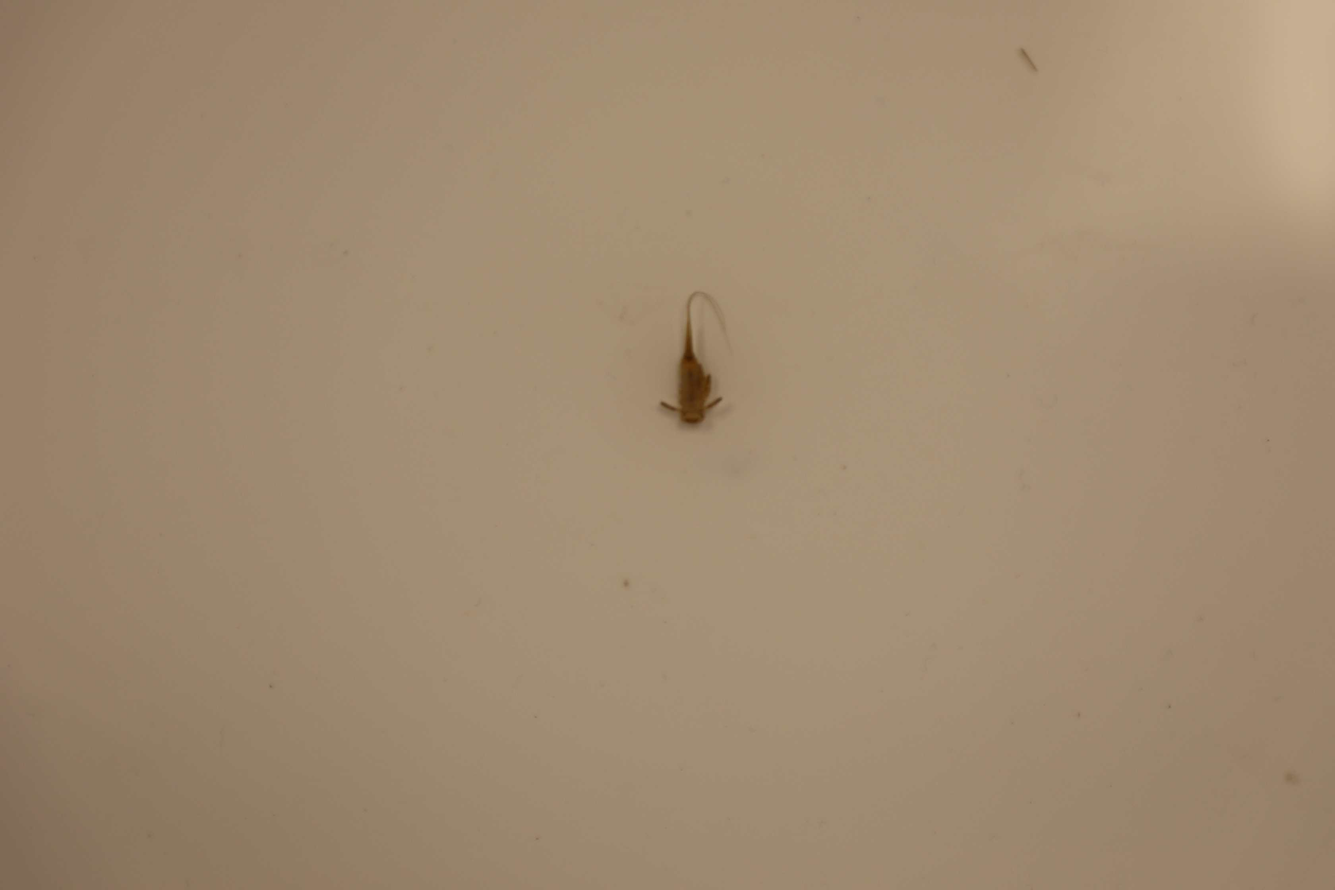Mayfly: (660, 285, 725, 432)
